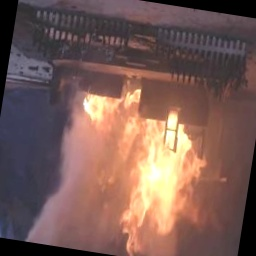fire: (60, 74, 218, 256)
